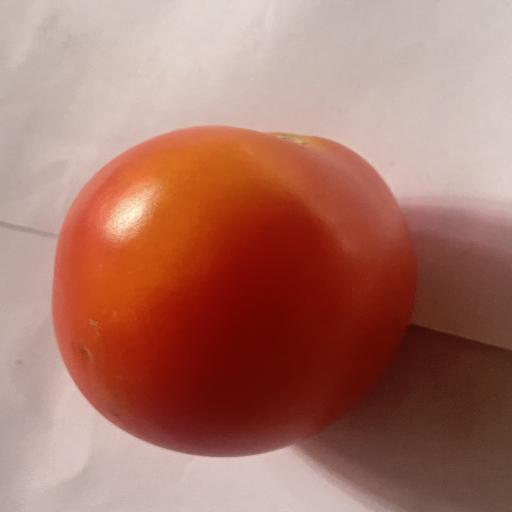ripe: (52, 126, 416, 456)
